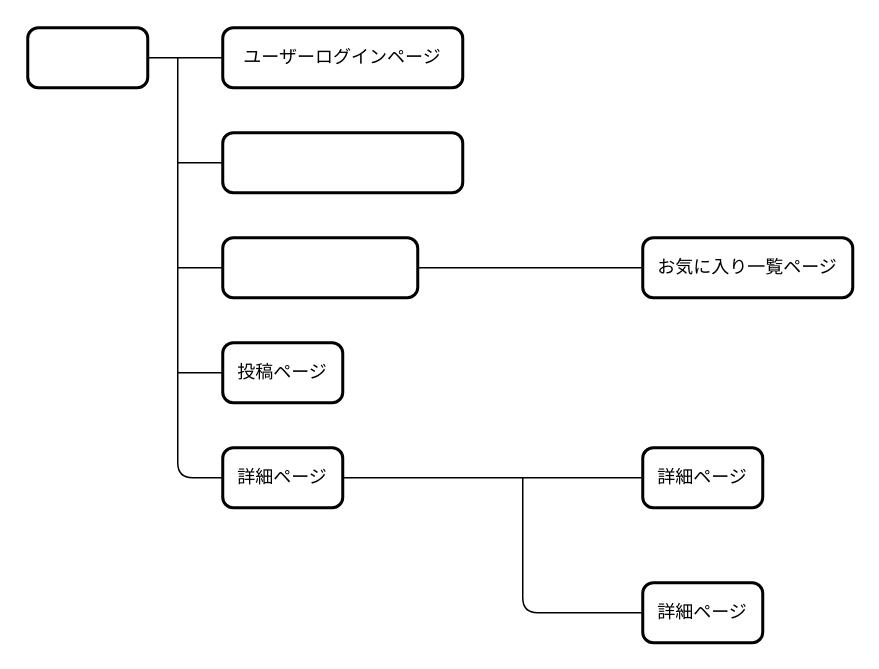
Some shapes in this 879 by 669 pixel diagram are drawn without their labels. Each missing label, with the box of its shape:
ユーザーマイページ: (220, 236, 418, 298)
ユーザー新規登録ページ: (220, 130, 464, 194)
一覧ページ: (26, 26, 148, 88)
